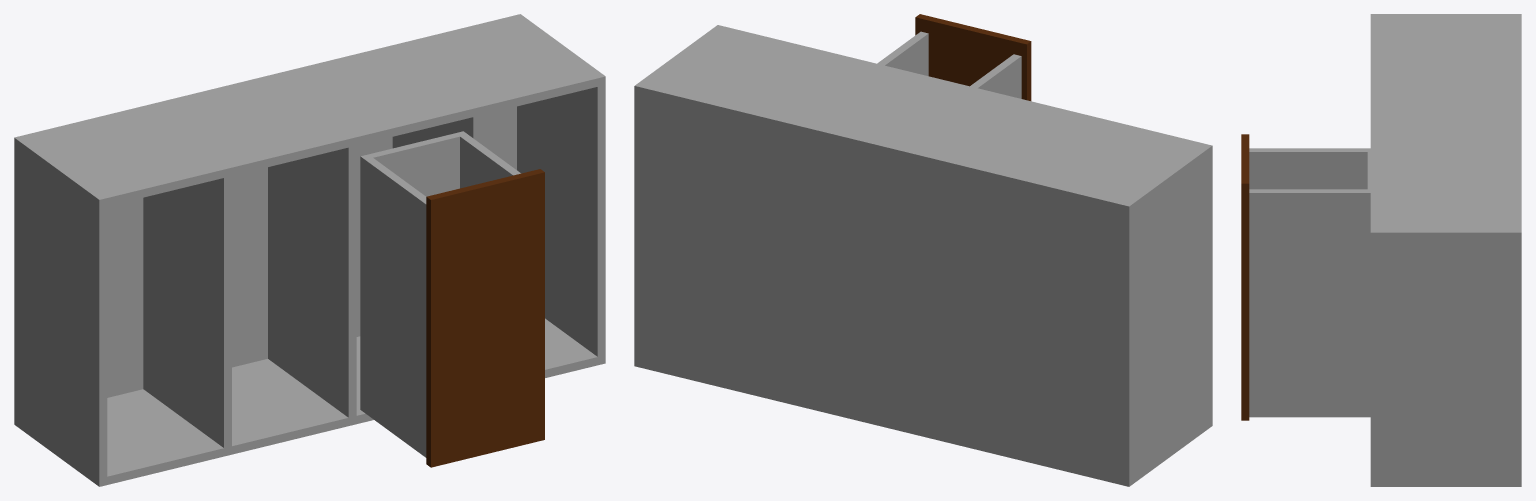
The model's file is meuble_690c2cab8977f.glb.
3 views of the same model, side by side, from view 1: azimuth 30°, elevation 25°; view 2: azimuth 150°, elevation 25°; view 3: azimuth 270°, elevation 25° (orthographic). The views are drawn at different scales.
Parts seen in each view (by area): view 1: world; view 2: world; view 3: world.
Boxes of the visible parts, <box> form: world: <box>14,14,605,486</box>; world: <box>634,14,1212,486</box>; world: <box>1241,14,1521,486</box>.
Bounding box in the file's own units: 1.2 × 0.65 × 0.65.
Materials: 1 (1 with a texture image).
